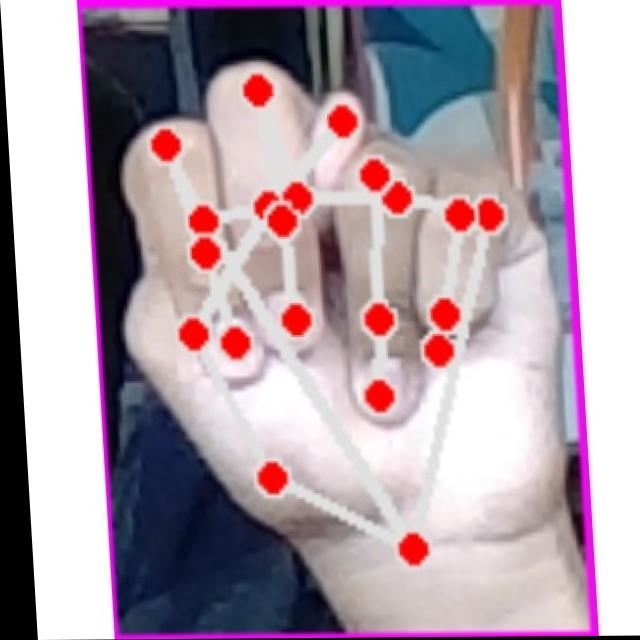N: (100, 59, 571, 576)
